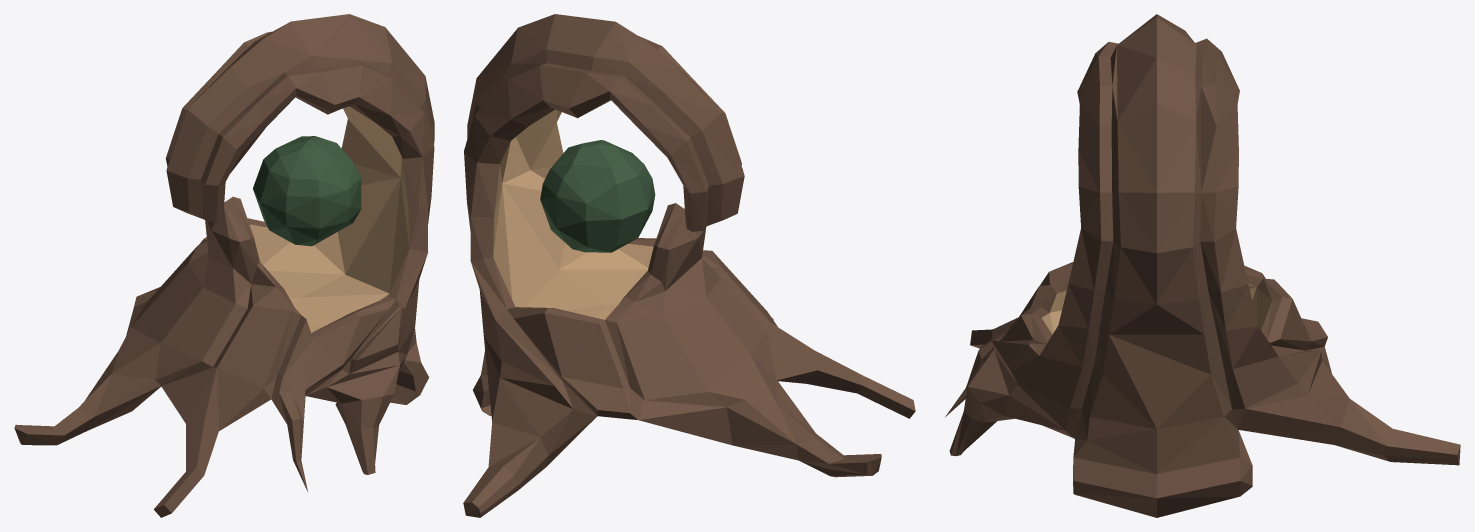
The model's file is _stump_5.fbx.
3 renders of one model, left to right at view 1: azimuth 30°, elevation 25°; view 2: azimuth 150°, elevation 25°; view 3: azimuth 270°, elevation 25°, orthographic. The views are drawn at different scales.
Parts seen in each view (by area): view 1: stump_5; view 2: stump_5; view 3: stump_5.
Part boxes in pixels (x1,y1,x2,y2): stump_5: (14,14,434,517); stump_5: (463,14,915,517); stump_5: (945,14,1460,517).
Bounding box in the file's own units: 184 × 167 × 175.
